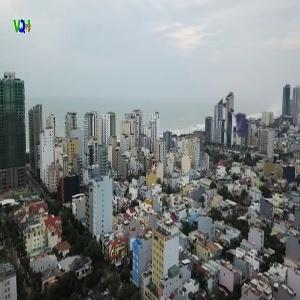drone: (198, 89, 273, 164)
